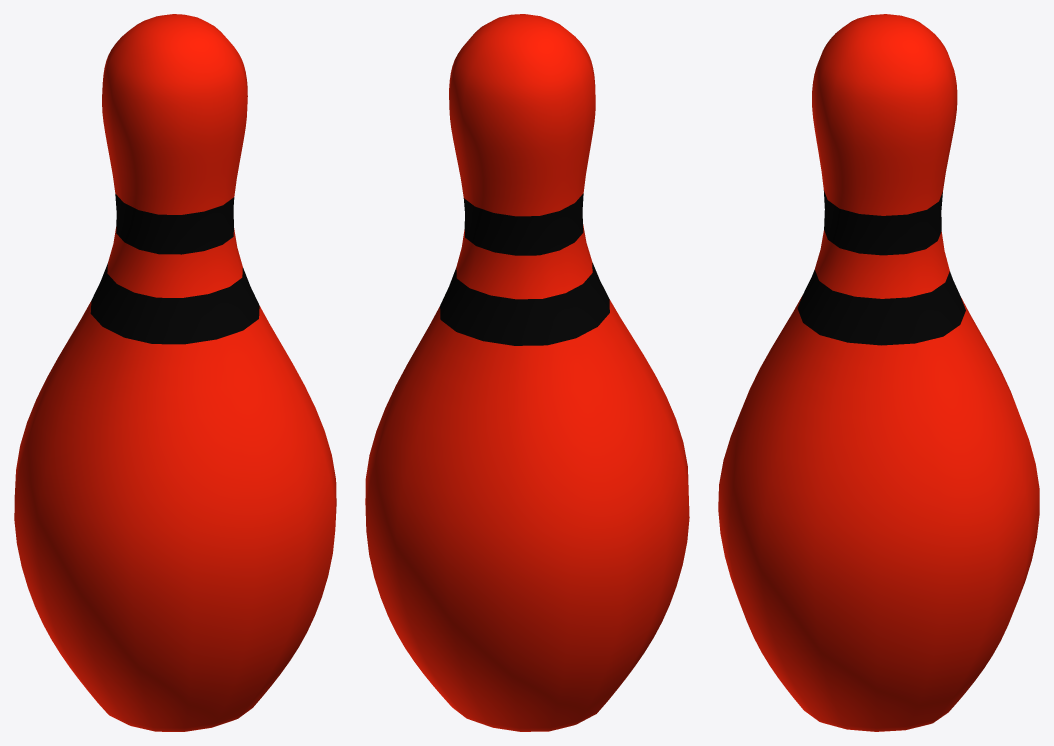
File: pin.dae
3 renders of one model, left to right at view 1: azimuth 30°, elevation 25°; view 2: azimuth 150°, elevation 25°; view 3: azimuth 270°, elevation 25°, orthographic.
Visible parts, largest first — view 1: Cube.013; view 2: Cube.013; view 3: Cube.013.
Boxes of the visible parts, bbox=[...] form: Cube.013: bbox=[14, 14, 336, 731]; Cube.013: bbox=[365, 14, 689, 731]; Cube.013: bbox=[718, 14, 1039, 731].
Size of the model in its own units: 0.7757 by 0.7756 by 1.82.
